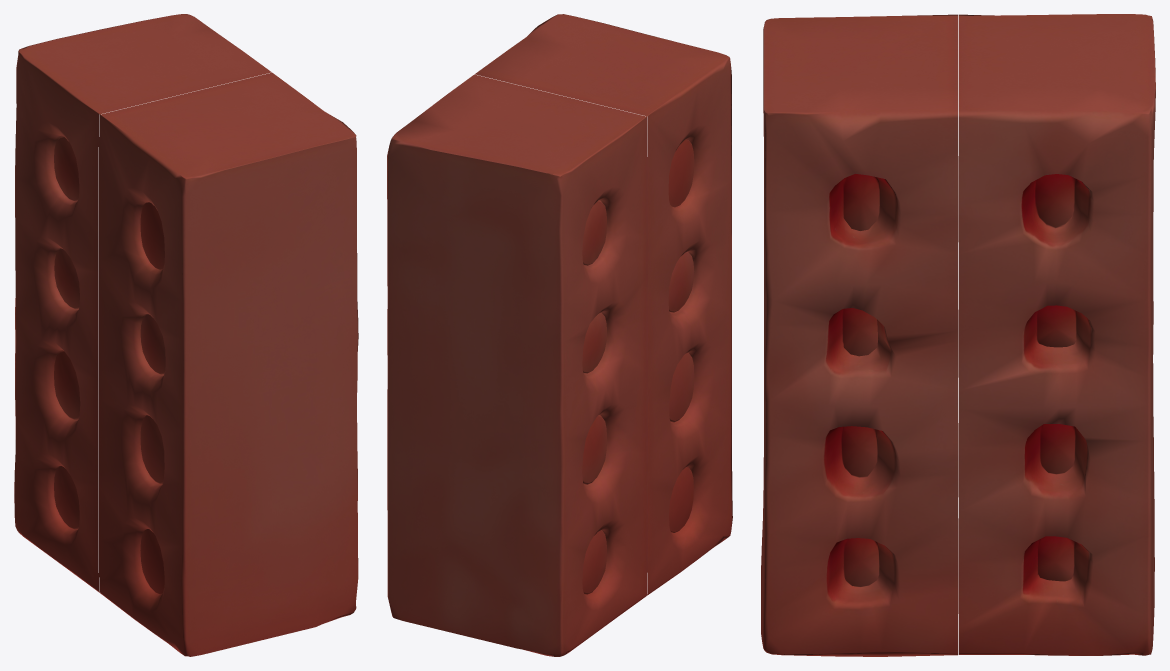
Rendered from brick.glb.
3 renders of one model, left to right at view 1: azimuth 30°, elevation 25°; view 2: azimuth 150°, elevation 25°; view 3: azimuth 270°, elevation 25°, orthographic. The views are drawn at different scales.
Parts seen in each view (by area): view 1: tripo_node_fe0227a2-7256-42f0-8e7e-319a3ac4240e; view 2: tripo_node_fe0227a2-7256-42f0-8e7e-319a3ac4240e; view 3: tripo_node_fe0227a2-7256-42f0-8e7e-319a3ac4240e.
Boxes of the visible parts, <box> form: tripo_node_fe0227a2-7256-42f0-8e7e-319a3ac4240e: <box>14,14,358,656</box>; tripo_node_fe0227a2-7256-42f0-8e7e-319a3ac4240e: <box>387,14,732,656</box>; tripo_node_fe0227a2-7256-42f0-8e7e-319a3ac4240e: <box>761,14,1155,656</box>.
Bounding box in the file's own units: 0.3931 × 0.9995 × 0.6519.
1 material, 1 textured.
